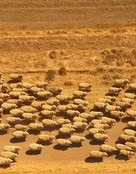sheep: (37, 104, 66, 118), (70, 135, 96, 148), (114, 143, 131, 158), (92, 132, 111, 145), (1, 152, 20, 165), (10, 81, 29, 94), (7, 70, 27, 82), (37, 86, 60, 96), (86, 150, 111, 159), (89, 118, 108, 129), (69, 90, 91, 99), (36, 135, 55, 145), (39, 109, 58, 119), (123, 126, 136, 140), (100, 144, 118, 154), (57, 137, 75, 147), (28, 122, 46, 132), (22, 110, 37, 122), (17, 93, 32, 105), (7, 106, 23, 117), (43, 119, 62, 128), (1, 145, 23, 152), (10, 123, 27, 132), (103, 103, 122, 111), (105, 87, 124, 95), (31, 144, 46, 154), (86, 128, 104, 136), (6, 116, 22, 125), (14, 130, 31, 138), (115, 78, 129, 87), (74, 98, 88, 107), (106, 108, 123, 115), (73, 120, 87, 128), (58, 124, 72, 132), (72, 116, 90, 122), (95, 102, 107, 110), (66, 110, 81, 116), (78, 82, 89, 89)
